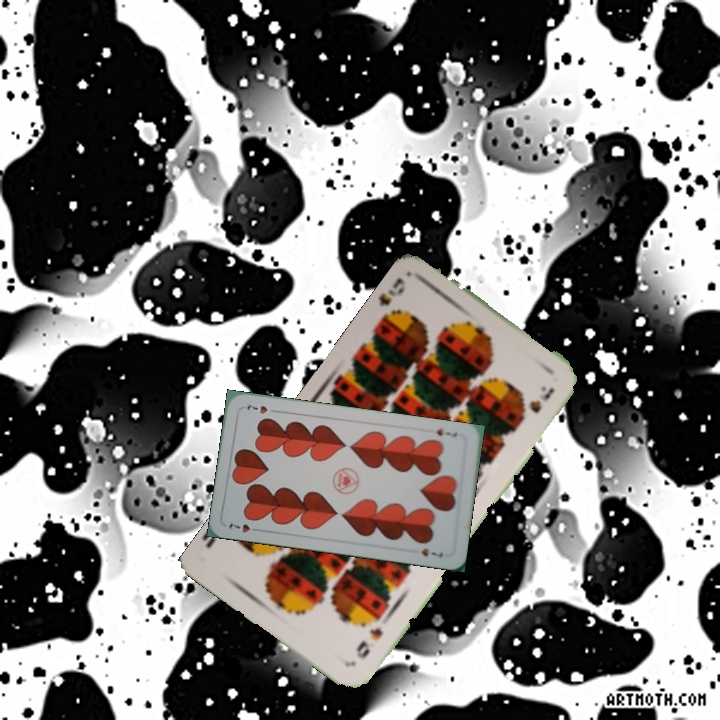H7: (225, 519, 263, 535), (432, 424, 460, 440)
S9: (375, 273, 408, 325), (352, 623, 386, 662)
